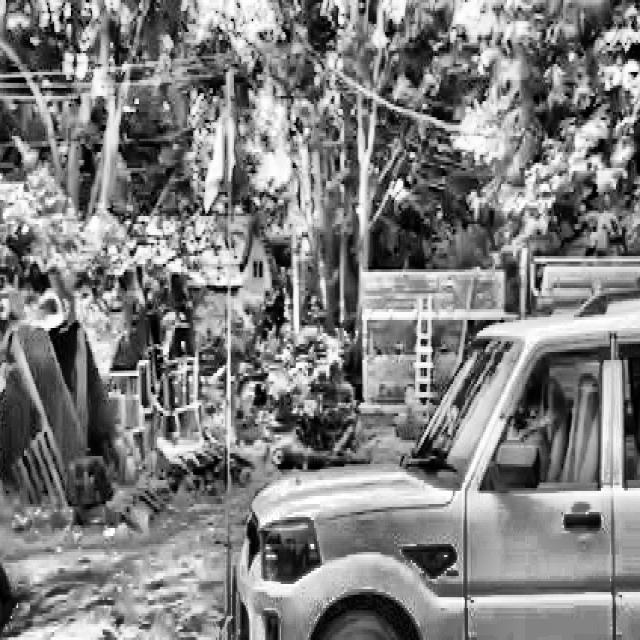light_vehicle: (234, 280, 640, 640)
